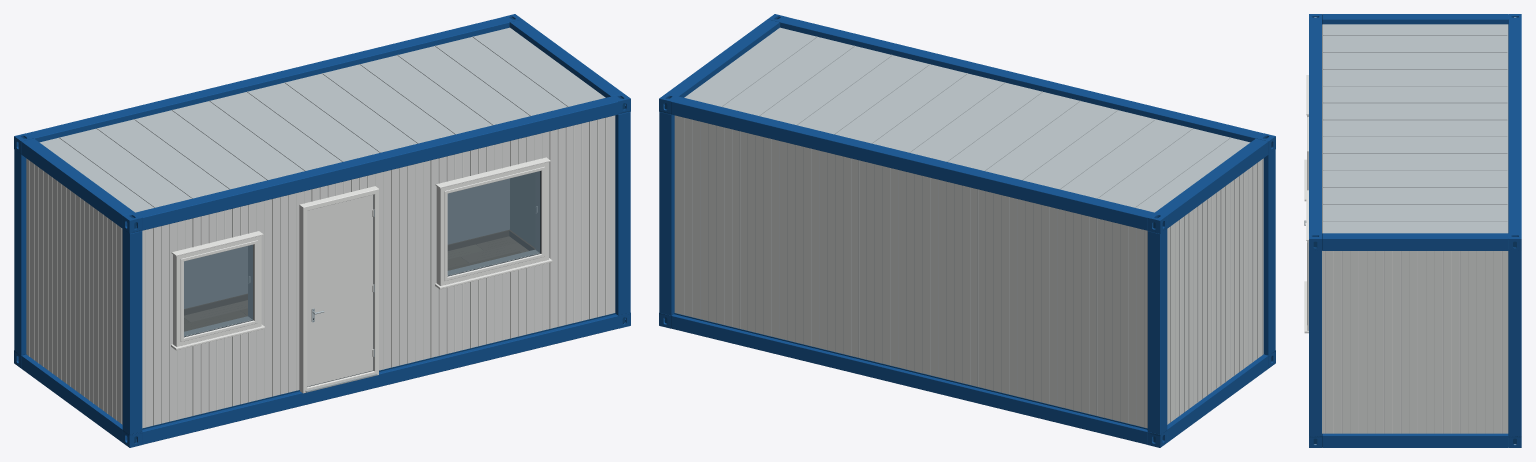
File: buero-6m.glb
The picture shows the model from 3 angles, left to right: view 1: azimuth 30°, elevation 25°; view 2: azimuth 150°, elevation 25°; view 3: azimuth 270°, elevation 25°; orthographic projection. The views are drawn at different scales.
Visible parts, largest first — view 1: Light grey insulated wall panels, Galvanised roof sheet, Blue powder-coated steel, White bevelled PVC joinery, Blue-grey clear glazing, White steel door leaf, Fine panel joints, Oak coloured skirting, Recessed blue steel edges; view 2: Light grey insulated wall panels, Galvanised roof sheet, Blue powder-coated steel, Fine panel joints, White bevelled PVC joinery, Recessed blue steel edges; view 3: Galvanised roof sheet, Light grey insulated wall panels, Blue powder-coated steel, White bevelled PVC joinery, Fine panel joints.
Boxes of the visible parts, <box> form: Light grey insulated wall panels: <box>26,115,615,428</box>; Galvanised roof sheet: <box>39,27,605,212</box>; Blue powder-coated steel: <box>14,14,630,447</box>; White bevelled PVC joinery: <box>29,118,606,427</box>; Blue-grey clear glazing: <box>184,171,540,336</box>; White steel door leaf: <box>307,195,373,386</box>; Fine panel joints: <box>75,118,605,427</box>; Oak coloured skirting: <box>184,230,534,315</box>; Recessed blue steel edges: <box>14,18,630,442</box>; Light grey insulated wall panels: <box>674,115,1263,428</box>; Galvanised roof sheet: <box>684,27,1250,212</box>; Blue powder-coated steel: <box>659,14,1275,447</box>; Fine panel joints: <box>684,118,1262,427</box>; White bevelled PVC joinery: <box>1170,159,1262,421</box>; Recessed blue steel edges: <box>659,18,1275,442</box>; Galvanised roof sheet: <box>1322,24,1508,233</box>; Light grey insulated wall panels: <box>1322,251,1508,433</box>; Blue powder-coated steel: <box>1309,14,1521,447</box>; White bevelled PVC joinery: <box>1304,75,1501,433</box>; Fine panel joints: <box>1325,251,1502,433</box>.
Bounding box in the file's own units: 6 × 2.6 × 2.45.
